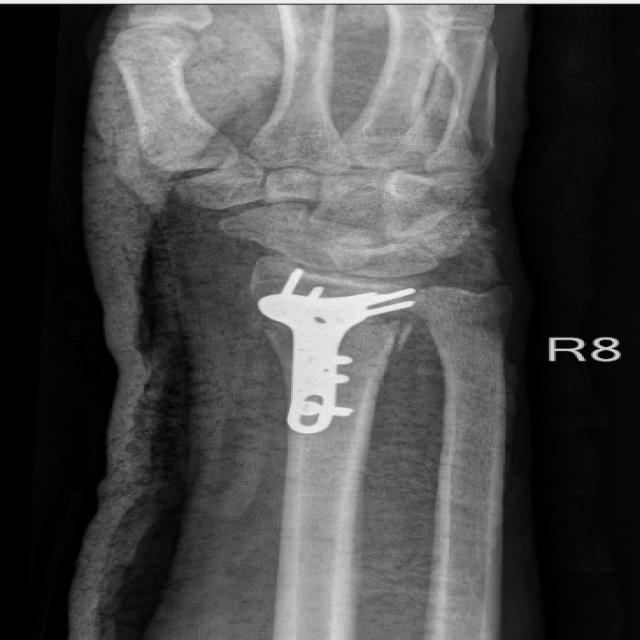x-ray: (244, 264, 431, 442)
